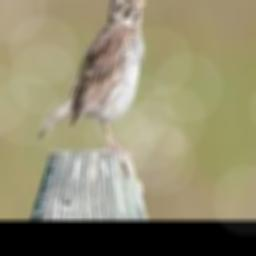Sparrow: (37, 0, 149, 151)
